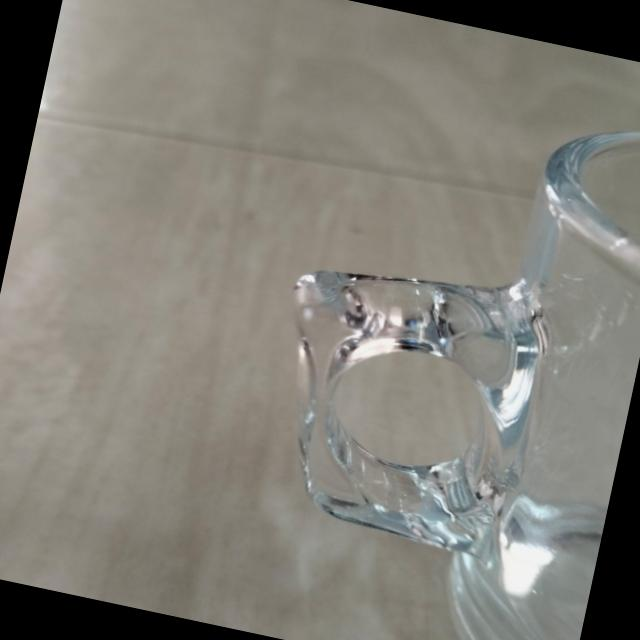glass-VX4N: (223, 58, 640, 640)
